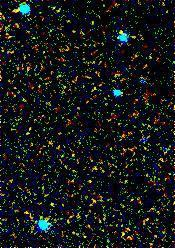star: (109, 16, 139, 46)
